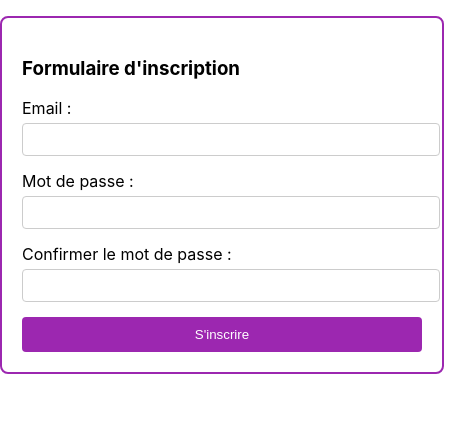
affiche une erreur quand le mot de passe est trop court
Type "test@test.com" into the field labelled "Email :" at (231, 140), box [22,123,440,156]
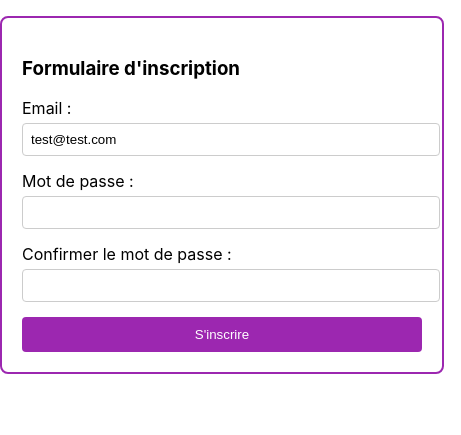
Type "123" into the password field labelled "Mot de passe :" at (231, 213), box [22,196,440,229]
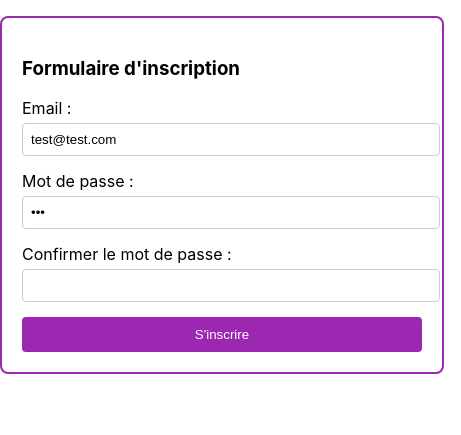
Click the button "S'inscrire" at (222, 335), box [22,317,422,352]
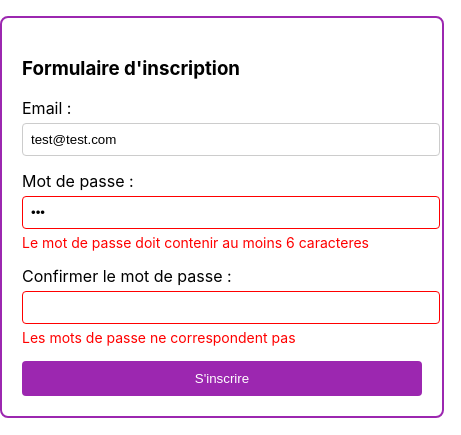
Check: the text "Le mot de passe doit contenir au moins 6 caracteres" is shown, box [22,234,422,251]
